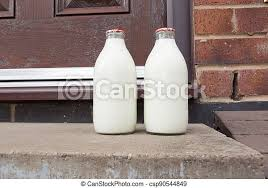milk: (91, 25, 137, 138), (145, 31, 192, 135)
